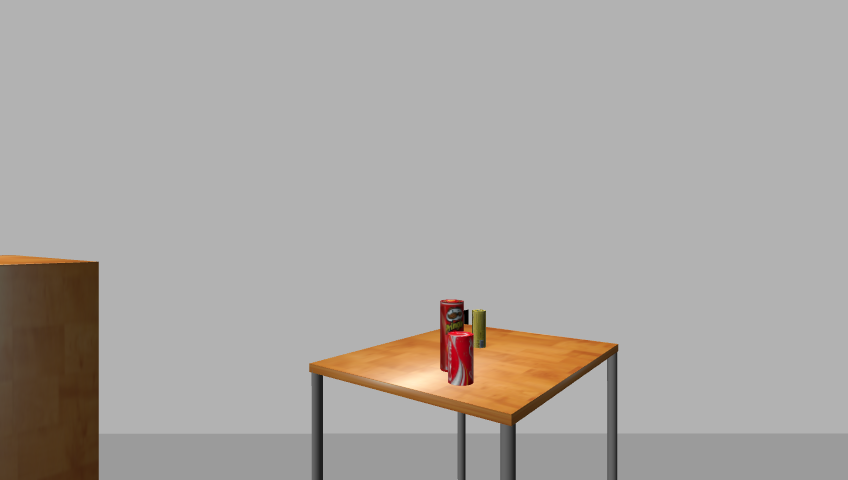biscuits pack: (471, 309, 488, 350)
bookshelf: (0, 255, 107, 479)
coke can: (448, 332, 475, 386)
dinner table: (301, 327, 628, 480)
pringles can: (437, 298, 465, 376)
